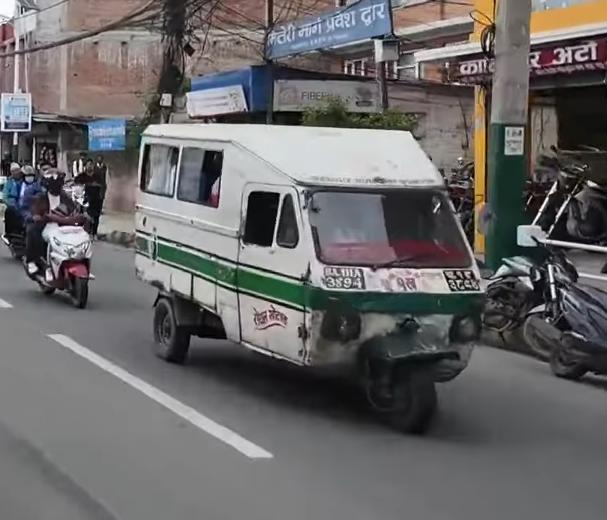scooter: (19, 205, 105, 318)
tempo: (133, 116, 496, 437)
